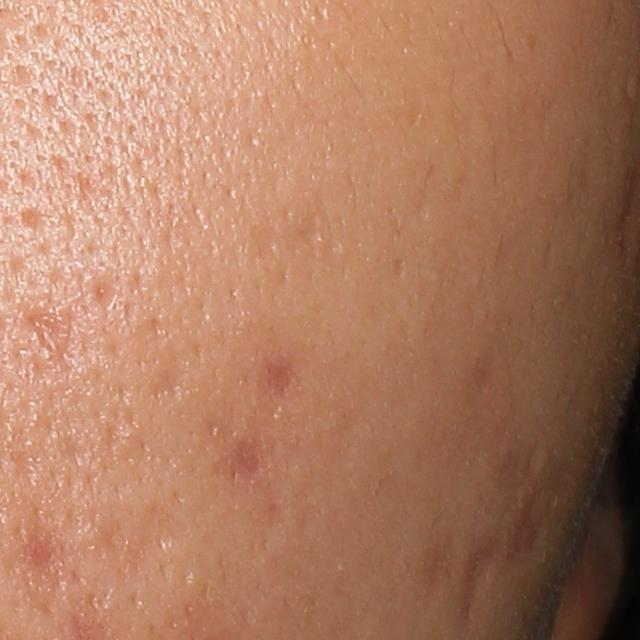atrophic_scar: (459, 531, 503, 628), (23, 523, 72, 588), (509, 468, 544, 558), (26, 309, 76, 361), (226, 429, 272, 485)
